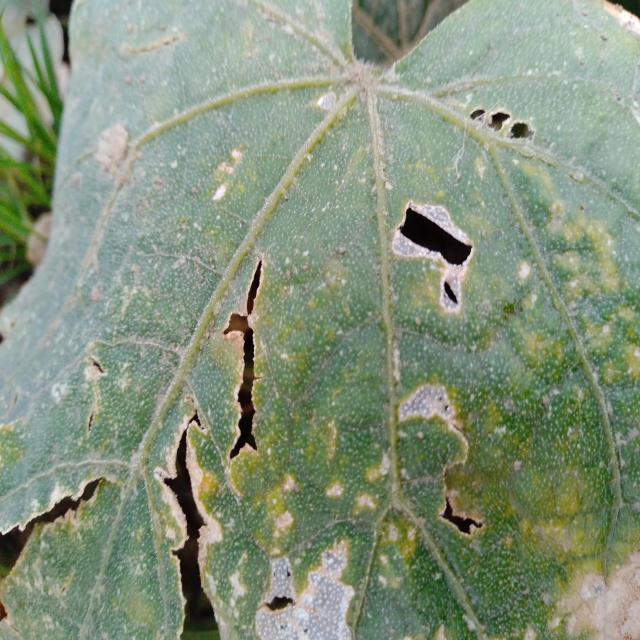cucumber_anthracnose: (33, 73, 595, 624)
